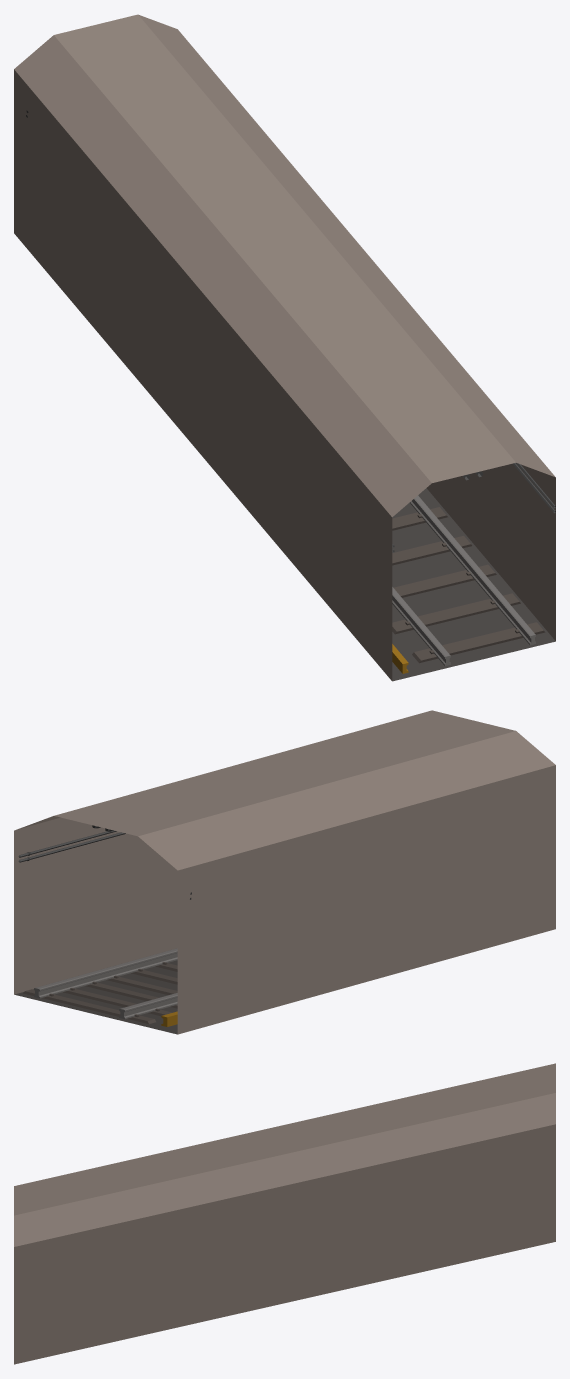
The model's file is SM_Train_Track_Underground_Single_Tunnel_Slope.fbx.
3 renders of one model, top to bottom at view 1: azimuth 30°, elevation 25°; view 2: azimuth 150°, elevation 25°; view 3: azimuth 270°, elevation 25°, orthographic. The views are drawn at different scales.
Visible parts, largest first — view 1: SM_Train_Track_Underground_Single_Tunnel_Slope; view 2: SM_Train_Track_Underground_Single_Tunnel_Slope; view 3: SM_Train_Track_Underground_Single_Tunnel_Slope.
Boxes of the visible parts, x1=… form: SM_Train_Track_Underground_Single_Tunnel_Slope: x1=14, y1=14, x2=555, y2=681; SM_Train_Track_Underground_Single_Tunnel_Slope: x1=14, y1=710, x2=555, y2=1034; SM_Train_Track_Underground_Single_Tunnel_Slope: x1=14, y1=1063, x2=555, y2=1364.
Bounding box in the file's own units: 350 × 735 × 1400.
